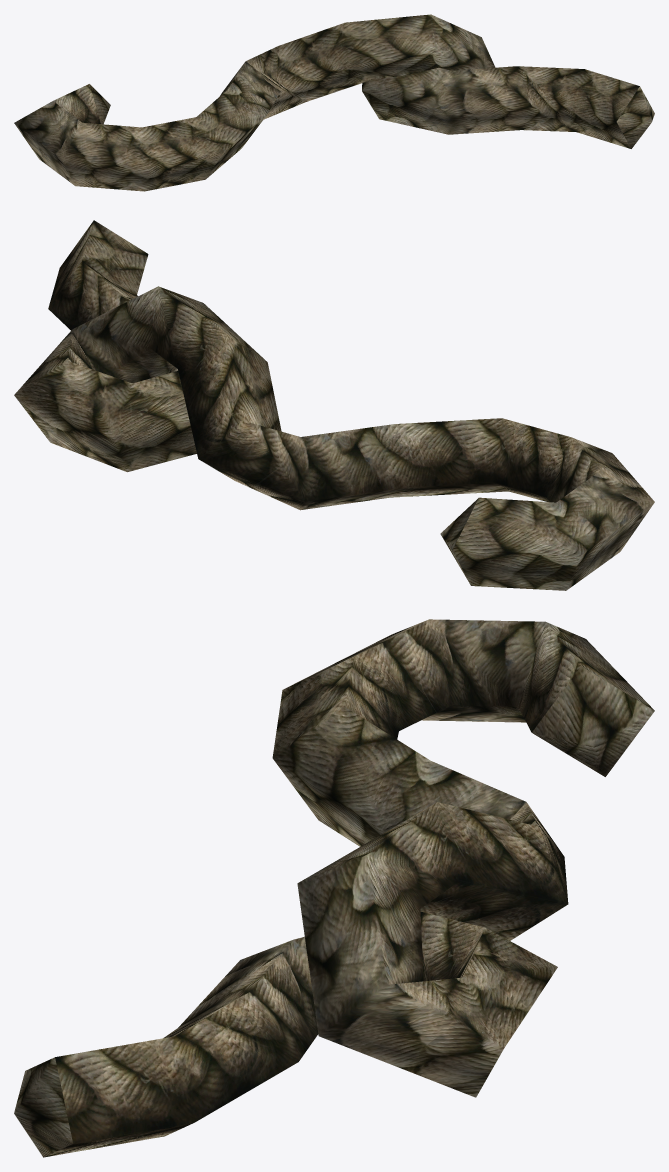
Rendered from rope_stump02.dae.
3 views of the same model, one above another, from view 1: azimuth 30°, elevation 25°; view 2: azimuth 150°, elevation 25°; view 3: azimuth 270°, elevation 25° (orthographic). The views are drawn at different scales.
Visible parts, largest first — view 1: rope02; view 2: rope02; view 3: rope02.
Boxes of the visible parts, <box> form: rope02: <box>14,14,654,191</box>; rope02: <box>14,220,654,590</box>; rope02: <box>14,619,654,1157</box>.
Bounding box in the file's own units: 0.4715 × 0.2685 × 0.0911.
1 material, 1 textured.
